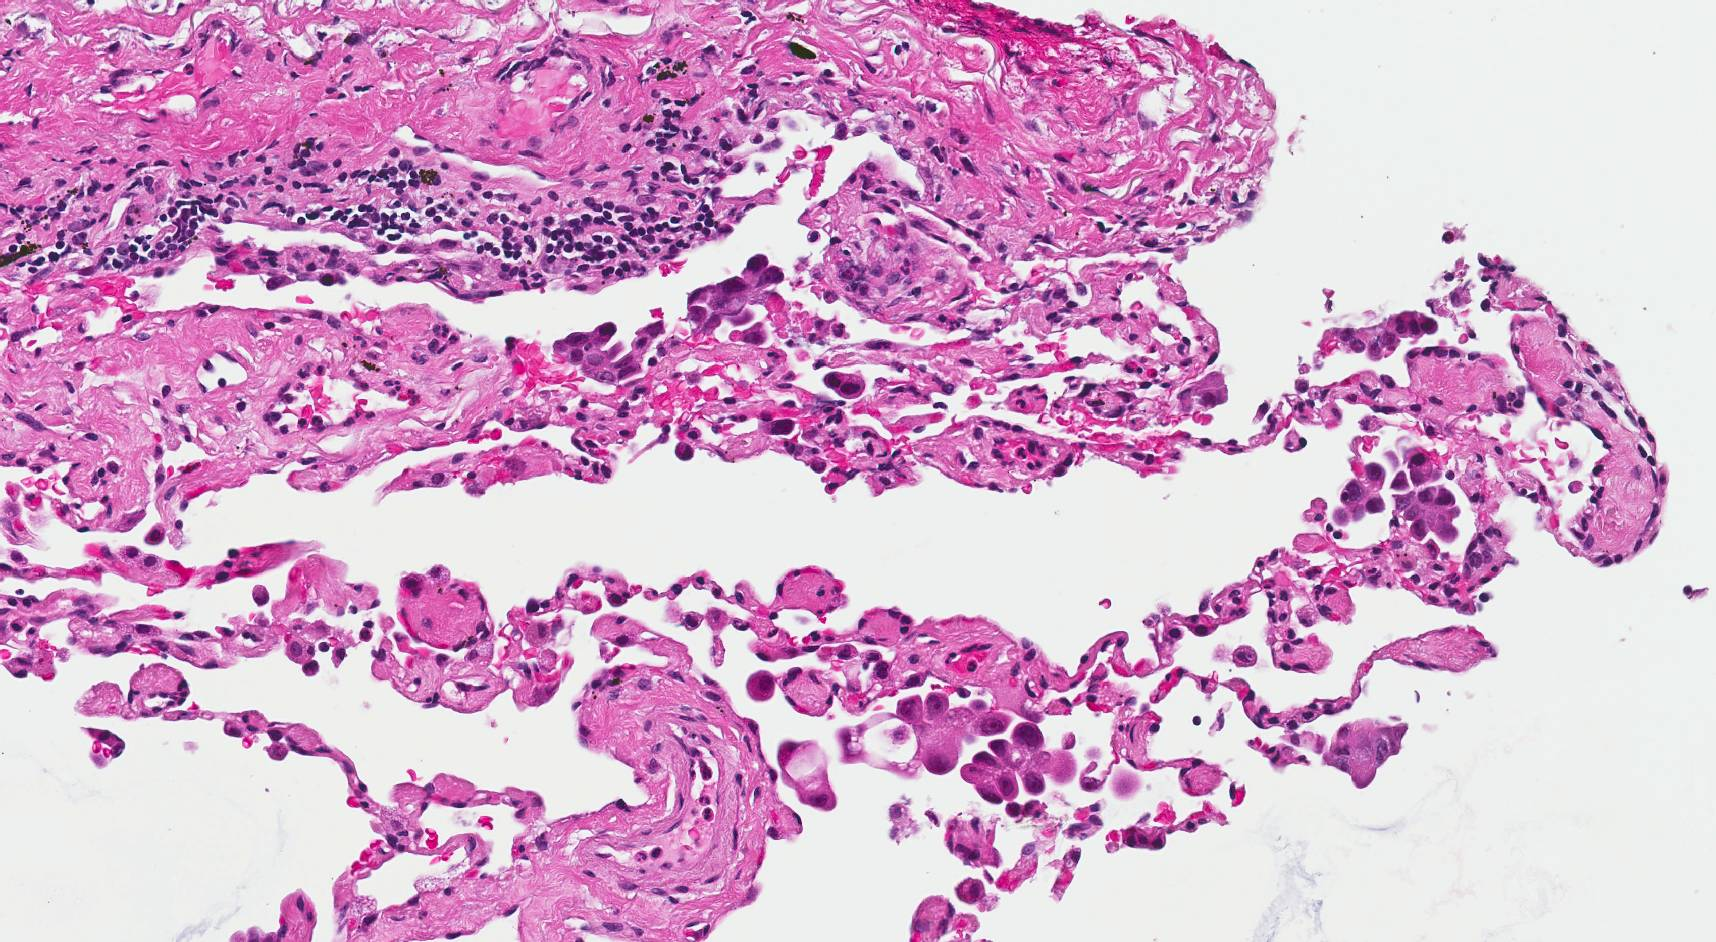stas: (840, 690, 1012, 778), (962, 718, 1077, 804), (685, 251, 793, 338), (549, 322, 666, 384), (1322, 722, 1412, 790), (1321, 309, 1444, 359), (1391, 463, 1464, 545), (774, 738, 838, 817), (1335, 461, 1388, 526), (947, 815, 1009, 871), (820, 371, 869, 401)
